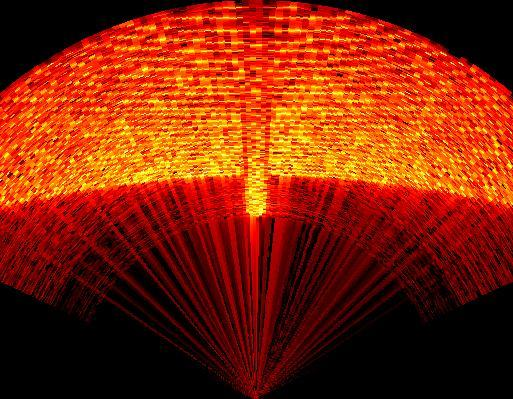pipe: (235, 7, 277, 222)
